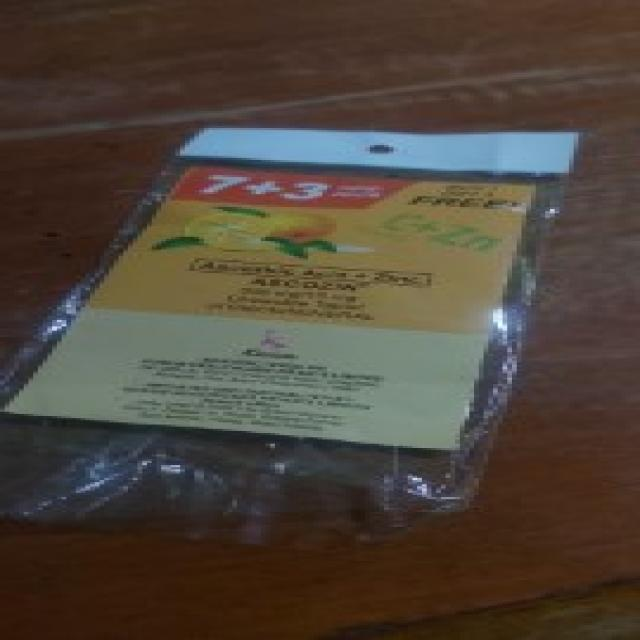Cacat: (7, 125, 586, 542)
